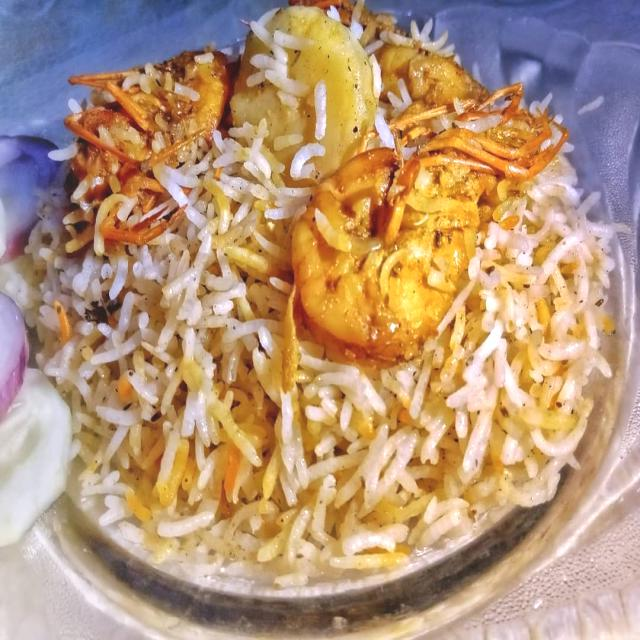biryani: (59, 27, 577, 597)
